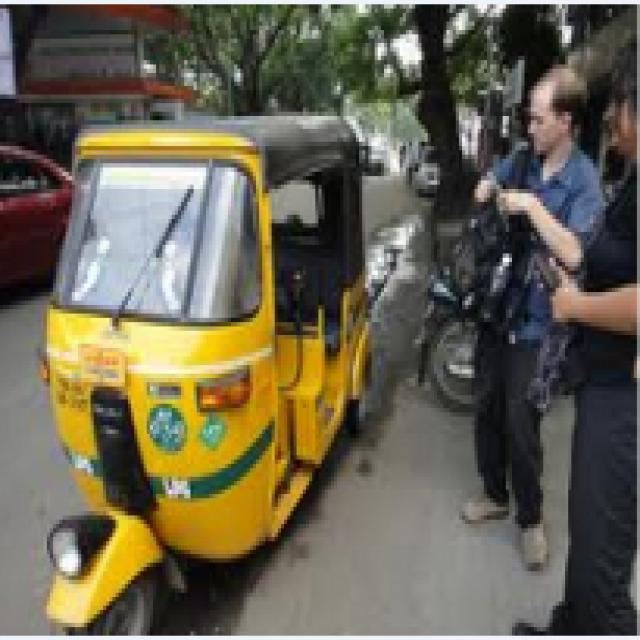auto_front: (39, 84, 354, 624)
